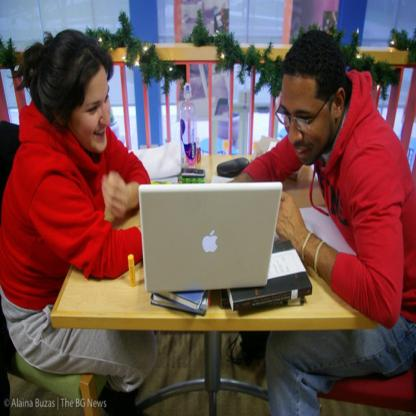board: (135, 179, 281, 291), (180, 82, 200, 170)
